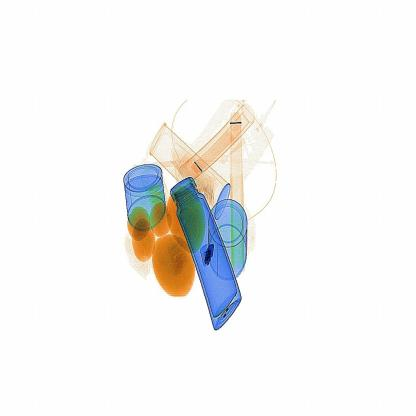wrench: (195, 232, 224, 276)
